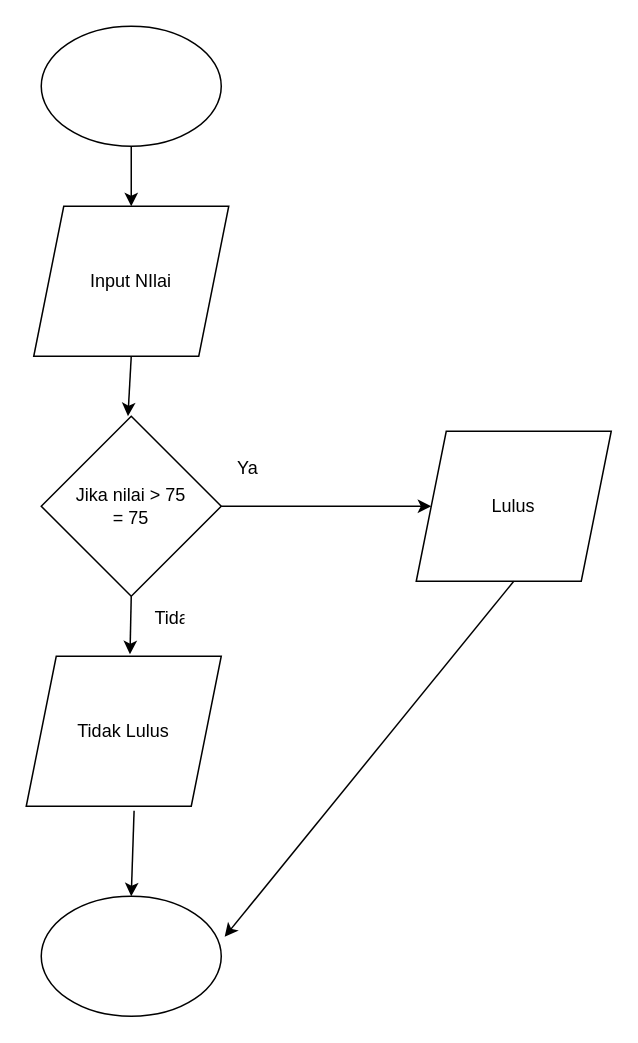
This 638x1043 diagram has some shape labels left out. The centre of each missing label's shape, as x and y in pixels:
"End" goes at (130,955).
"Start" goes at (130,85).
